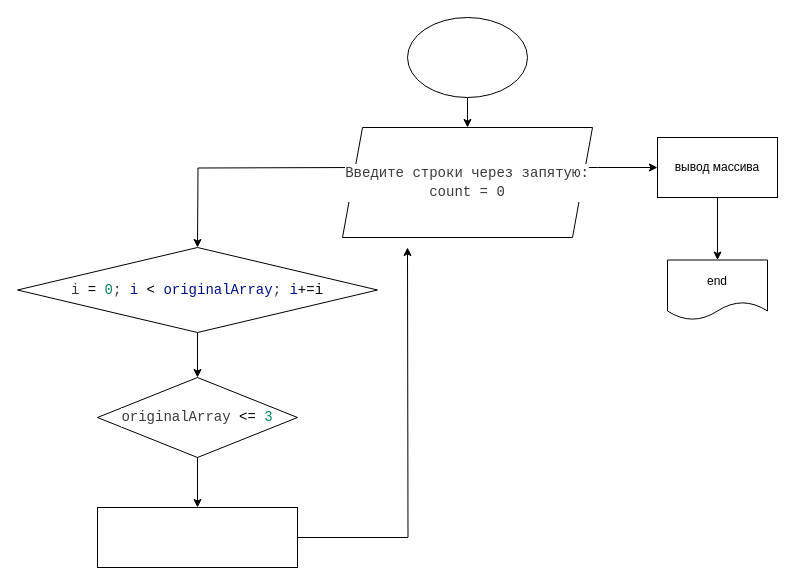
The diagram is 795 pixels wide and 585 high, and some of its shapes have lost their labels. The shapes that lost their labels are listed below. From the top down, each one's centre as x and y in pixels, then its label:
At (x=467, y=57): "start".
At (x=197, y=537): "newArray = originalArray count += count".
